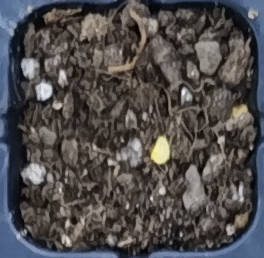pepper seed: (64, 51, 235, 217)
